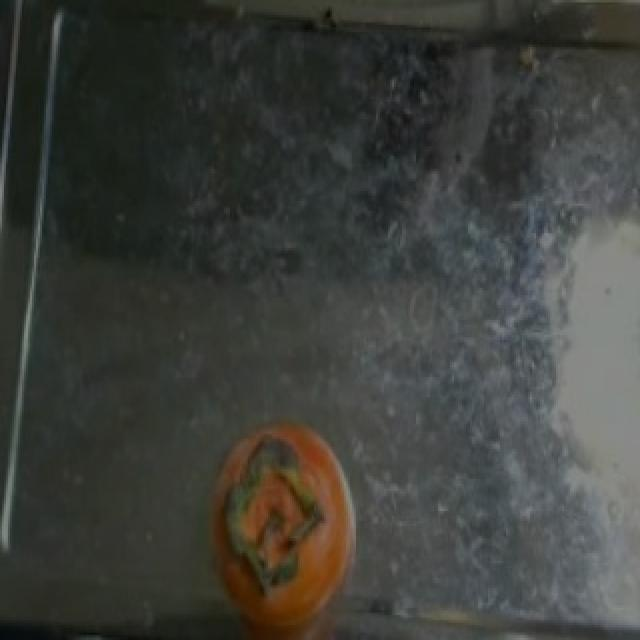Fruit: (196, 402, 382, 635)
